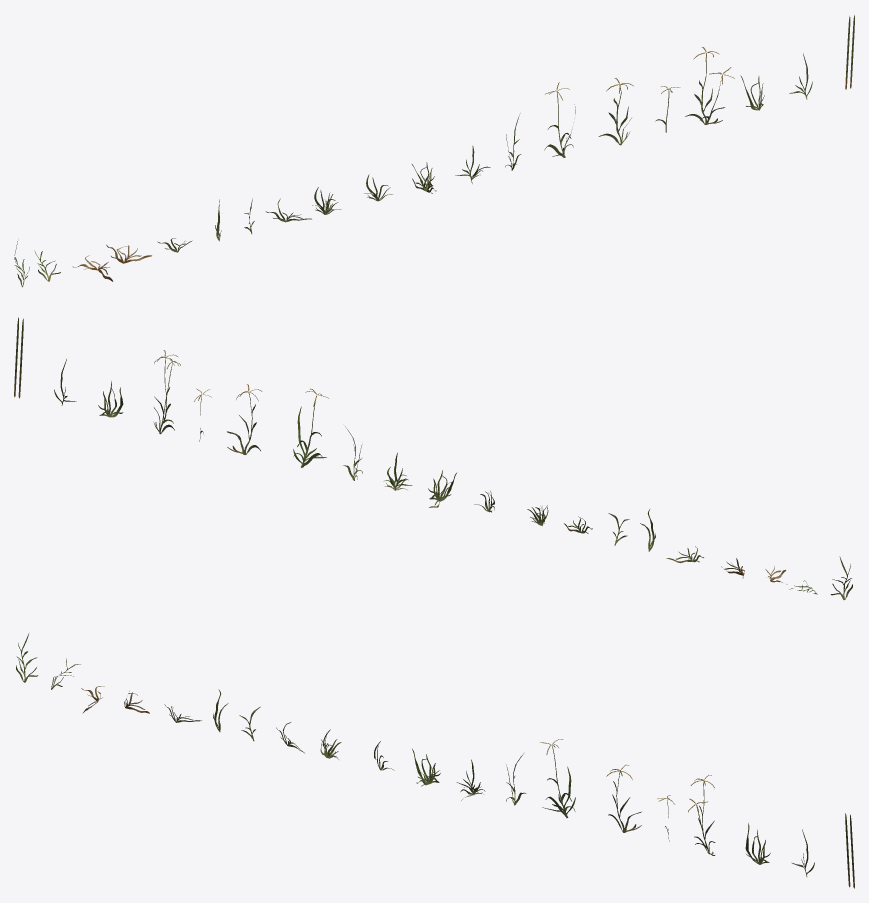
The model's file is grass_low.glb.
3 renders of one model, top to bottom at view 1: azimuth 30°, elevation 25°; view 2: azimuth 150°, elevation 25°; view 3: azimuth 330°, elevation 25°, orthographic.
Visible parts, largest first — view 1: grass_bermuda_01_dead_a; view 2: grass_bermuda_01_dead_a; view 3: grass_bermuda_01_dead_a.
Part boxes in pixels (x1,y1,x2,y2): grass_bermuda_01_dead_a: (14,15,854,287); grass_bermuda_01_dead_a: (14,317,852,599); grass_bermuda_01_dead_a: (16,633,854,888).
Size of the model in its own units: 2.98 by 0.2801 by 0.2517.
Materials: 1 (1 with a texture image).
